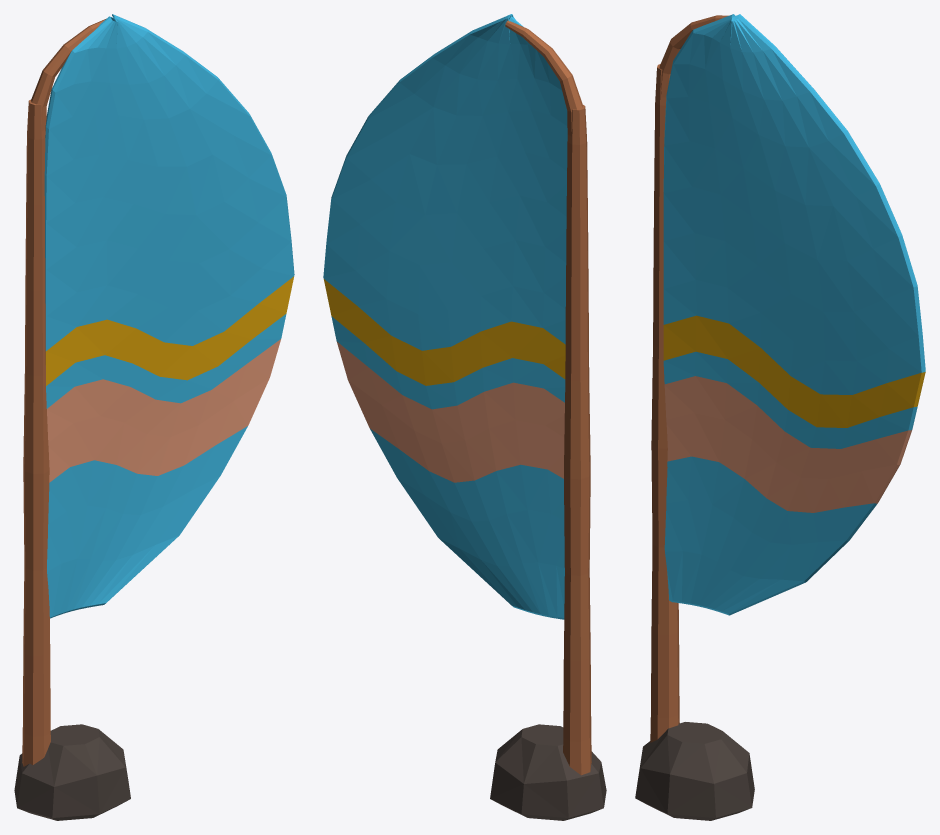
File: surfFlag.glb
3 renders of one model, left to right at view 1: azimuth 30°, elevation 25°; view 2: azimuth 150°, elevation 25°; view 3: azimuth 330°, elevation 25°, orthographic. The views are drawn at different scales.
Visible parts, largest first — view 1: surfFlag; view 2: surfFlag; view 3: surfFlag.
Part boxes in pixels (x1,y1,x2,y2): surfFlag: [14, 14, 294, 820]; surfFlag: [323, 14, 606, 820]; surfFlag: [635, 14, 925, 820].
Size of the model in its own units: 1.2 by 3.2 by 0.4.
Materials: 1 (1 with a texture image).
